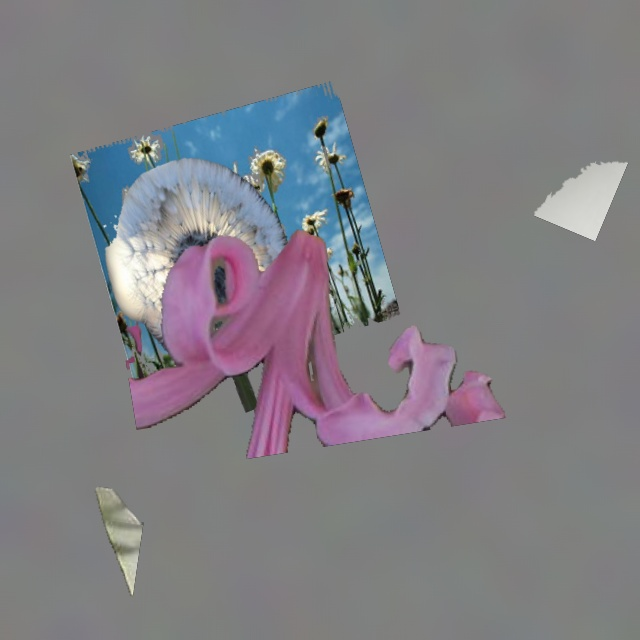cape flower: (126, 229, 504, 458)
daisy: (70, 82, 398, 389), (534, 162, 627, 240)
dandelion: (104, 158, 297, 411)
orchid: (95, 487, 142, 595)
